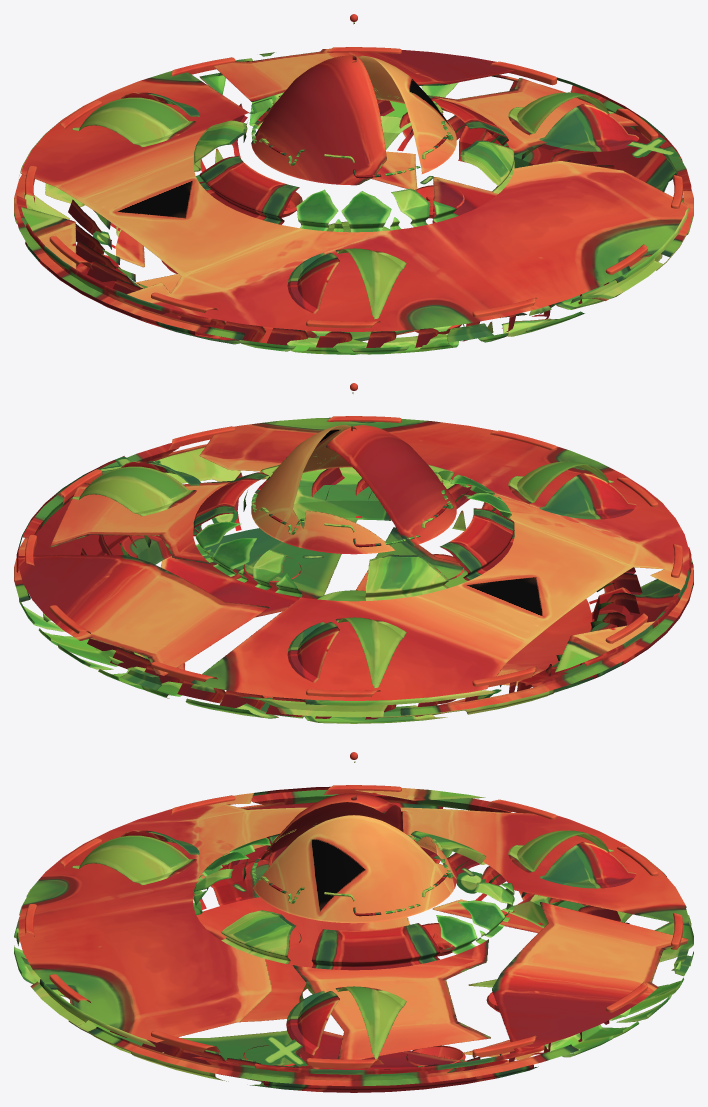
The model's file is retroUfo.obj.
The picture shows the model from 3 angles, top to bottom: view 1: azimuth 30°, elevation 25°; view 2: azimuth 150°, elevation 25°; view 3: azimuth 270°, elevation 25°; orthographic projection.
Visible parts, largest first — view 1: Object_5; view 2: Object_5; view 3: Object_5.
Boxes of the visible parts, box(x1,y1,x2,y2) form: Object_5: box(14, 14, 693, 354); Object_5: box(14, 383, 693, 723); Object_5: box(14, 752, 693, 1092).
Bounding box in the file's own units: 0.9733 × 0.4011 × 0.9717.
